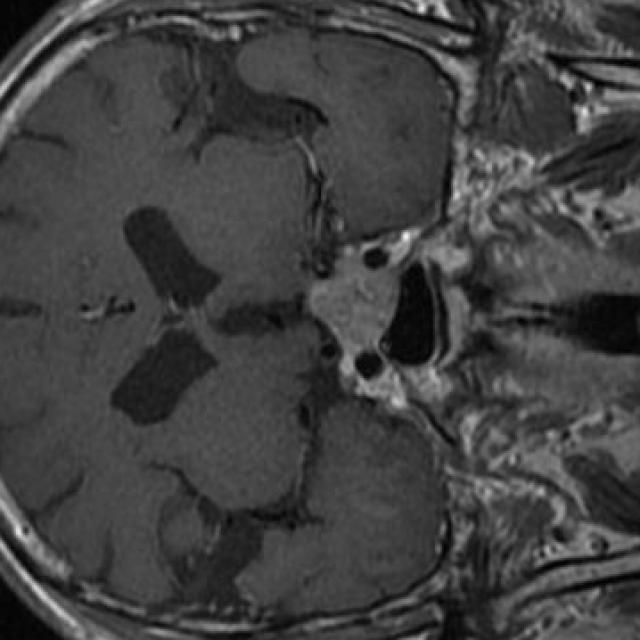pituitary: (308, 250, 399, 355)
